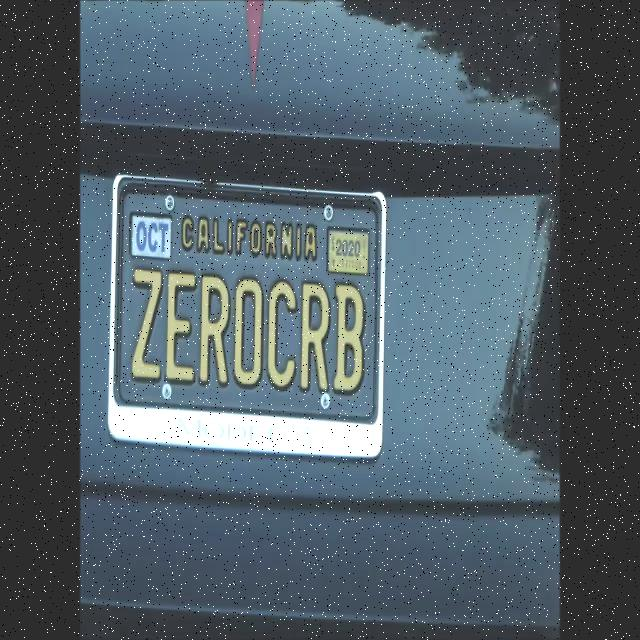licenseplate: (113, 176, 384, 449)
